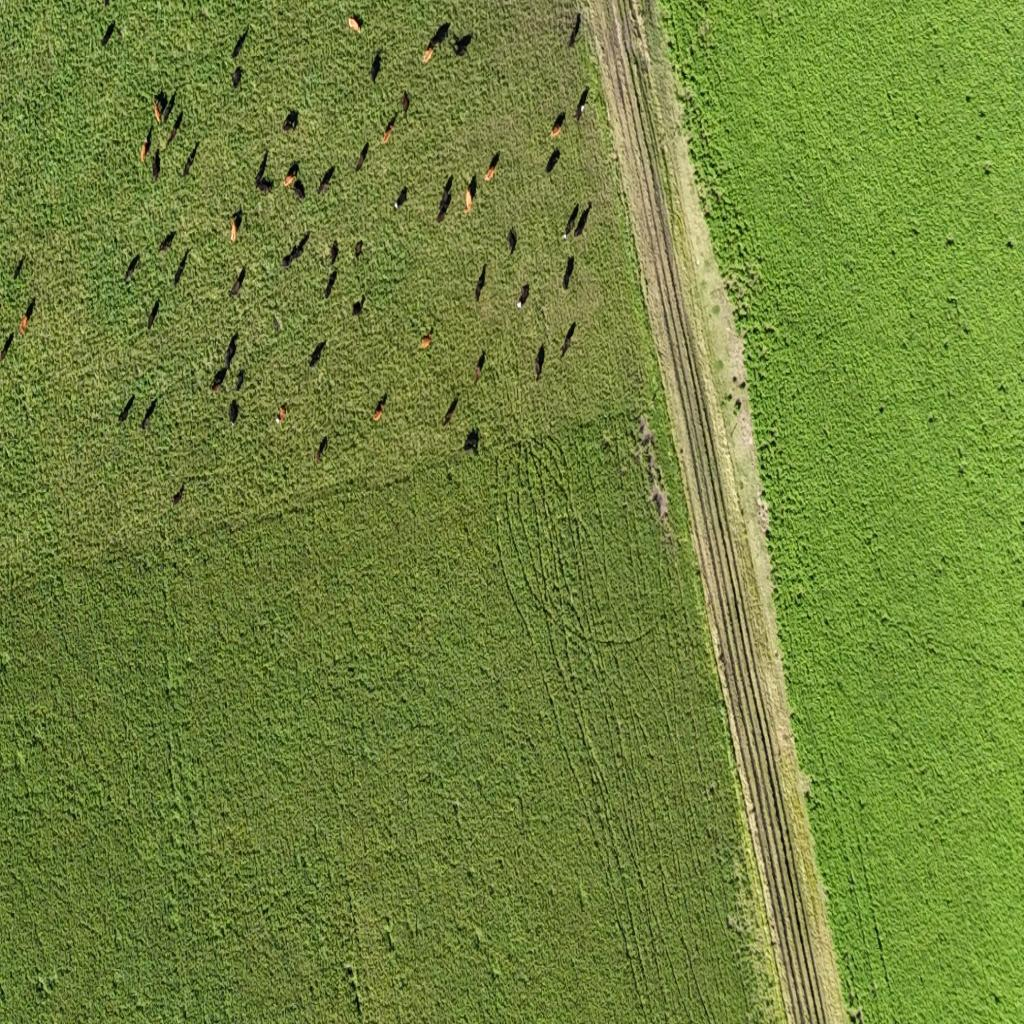cow: (424, 22, 451, 64), (254, 156, 274, 200), (436, 182, 452, 224), (560, 320, 576, 360), (166, 110, 181, 152), (232, 24, 249, 61), (464, 171, 478, 215), (574, 201, 591, 237), (183, 141, 199, 179), (563, 203, 579, 241), (174, 250, 190, 287), (20, 297, 36, 333), (550, 110, 566, 144), (230, 266, 246, 300), (118, 394, 136, 424), (452, 31, 472, 58), (308, 340, 326, 370), (317, 165, 335, 195), (224, 332, 238, 370), (575, 86, 589, 123), (442, 394, 458, 426), (142, 396, 157, 430), (568, 11, 582, 47), (282, 240, 300, 268), (230, 206, 245, 239), (533, 342, 545, 382), (154, 89, 168, 123), (355, 140, 369, 174), (163, 90, 176, 126), (485, 151, 500, 182), (124, 253, 140, 282), (0, 331, 14, 364), (562, 254, 574, 292), (372, 394, 387, 424), (463, 426, 479, 454), (294, 232, 310, 260), (284, 162, 300, 190), (147, 299, 160, 333), (475, 264, 486, 304), (324, 269, 338, 300), (382, 114, 396, 145), (211, 366, 227, 393), (158, 230, 175, 254), (100, 21, 115, 48), (369, 52, 381, 85), (474, 348, 485, 384), (546, 147, 560, 175), (517, 282, 530, 312), (282, 109, 298, 133), (315, 436, 328, 464), (394, 186, 408, 212), (351, 292, 365, 317), (171, 482, 185, 506), (420, 326, 434, 350), (327, 240, 339, 268), (292, 176, 306, 200), (231, 67, 244, 92), (348, 13, 364, 33), (506, 227, 517, 256), (14, 255, 26, 281), (442, 174, 454, 200), (140, 134, 150, 165), (228, 398, 239, 426), (151, 150, 160, 183), (276, 406, 288, 430), (400, 90, 410, 118), (235, 368, 244, 392), (354, 239, 363, 260), (423, 48, 433, 64), (20, 317, 28, 335), (273, 314, 281, 332), (733, 397, 742, 412), (911, 226, 919, 236), (1000, 383, 1008, 393), (984, 164, 991, 175), (946, 237, 954, 246), (1006, 239, 1013, 249)
